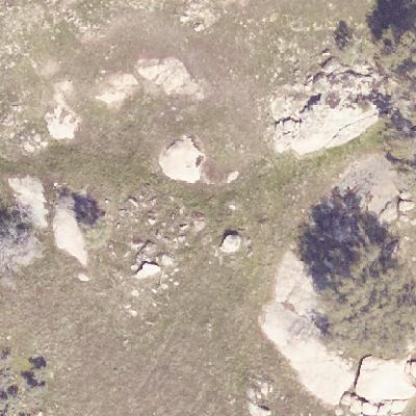tree-top: (314, 240, 415, 368)
